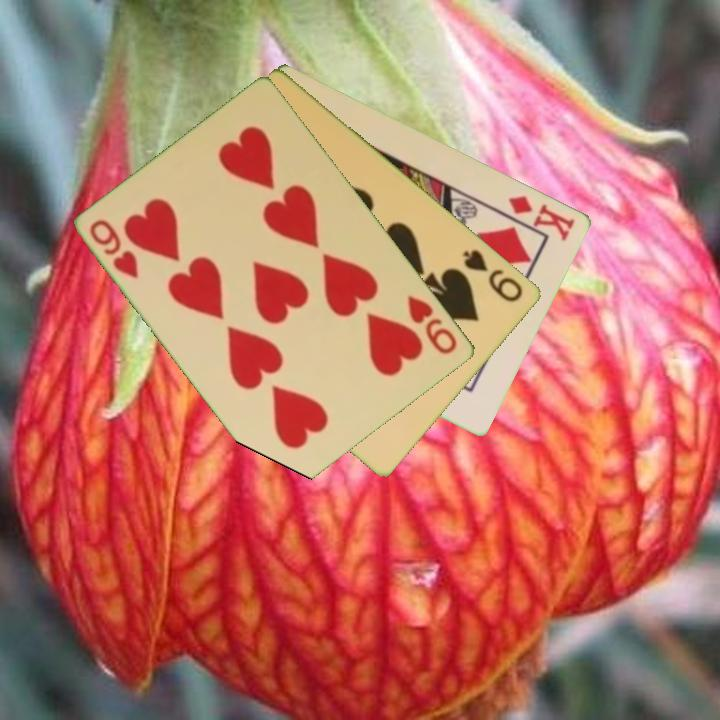9h: (404, 292, 461, 357), (86, 216, 142, 281)
9s: (460, 245, 527, 305)
Kd: (505, 191, 578, 244)
